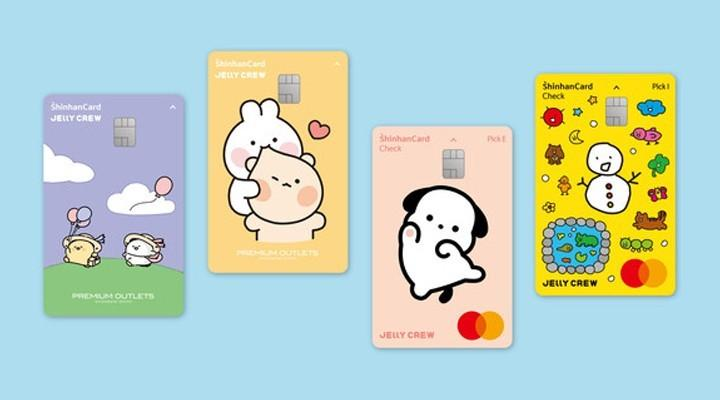Credit_card: (42, 94, 184, 315), (372, 126, 512, 348), (209, 51, 348, 273), (536, 74, 675, 295)
